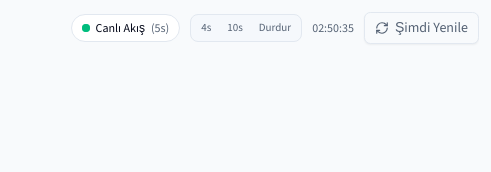
Scenario: ProcessingRefresh › changes interval when duration button is clicked
Click the button "Durdur": (275, 28) 251,17 -> 299,39
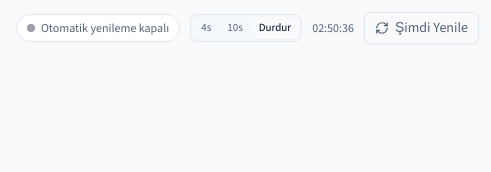
Result: the text "Otomatik yenileme kapalı" is shown at 41,19 -> 169,37
Click the button "4s": (206, 28) 193,17 -> 219,39
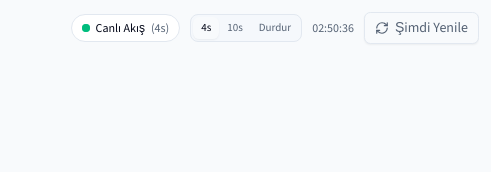
Result: the text "Canlı Akış" is shown at 96,19 -> 145,37
